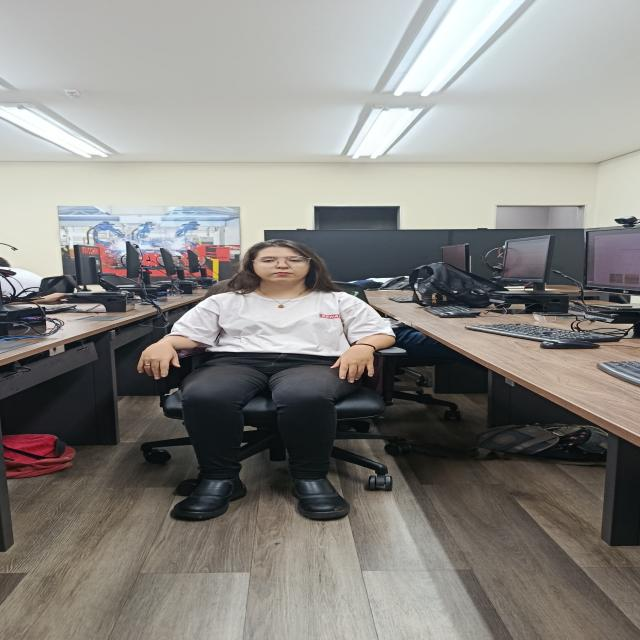sem_oculos: (249, 255, 314, 268), (263, 260, 290, 267)
